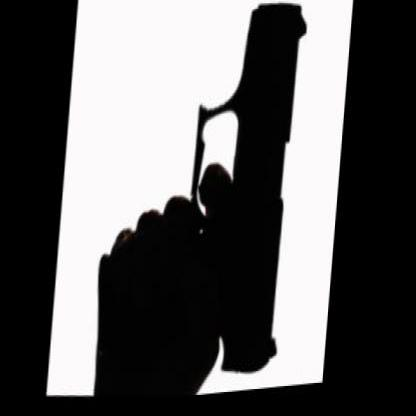pistol: (94, 0, 312, 395)
